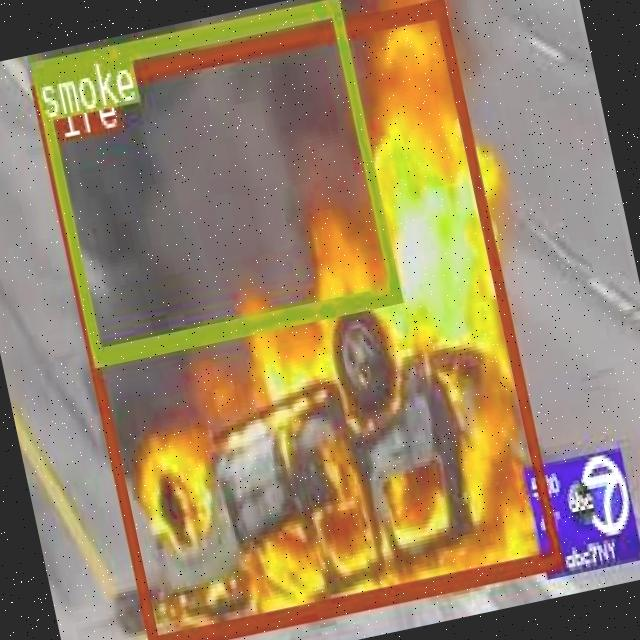fire: (28, 0, 559, 640)
smoke: (28, 0, 398, 360)
